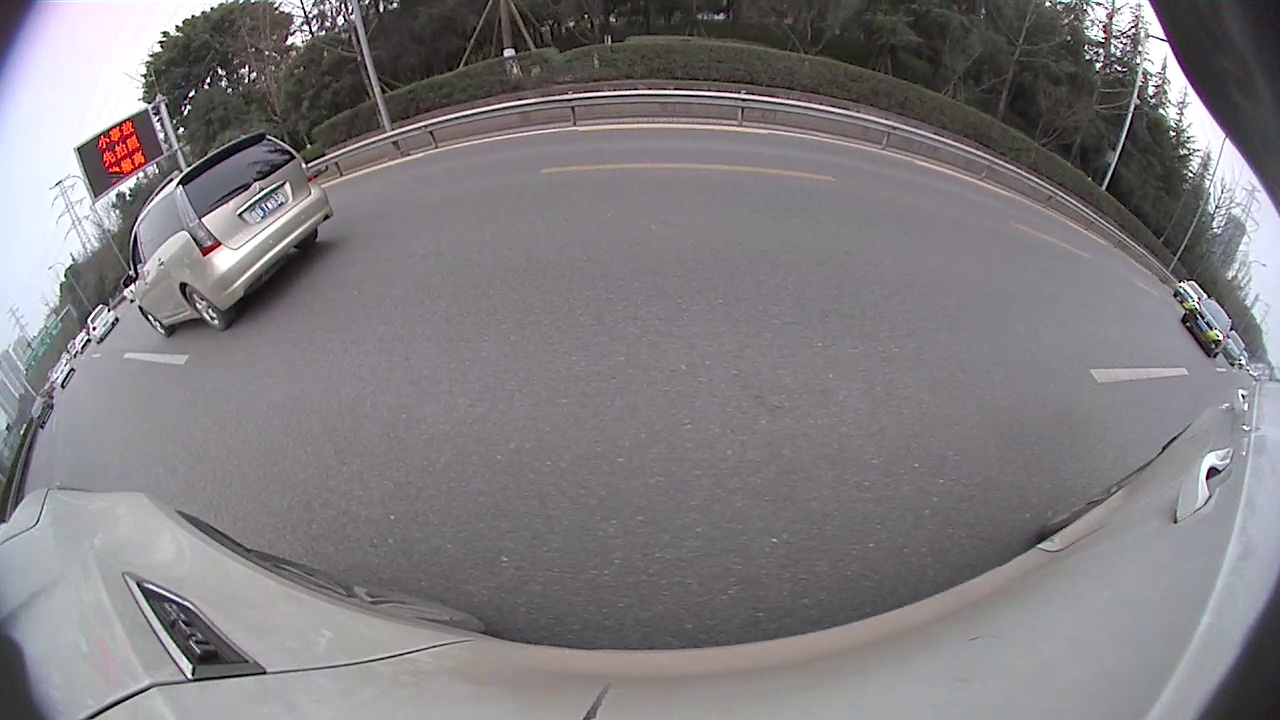car: (120, 129, 334, 339), (1180, 297, 1233, 360), (85, 302, 120, 344), (1173, 278, 1210, 313), (1219, 327, 1247, 367), (30, 395, 55, 430), (51, 358, 77, 390)
front: (140, 309, 168, 338)
rear: (184, 286, 225, 331)
